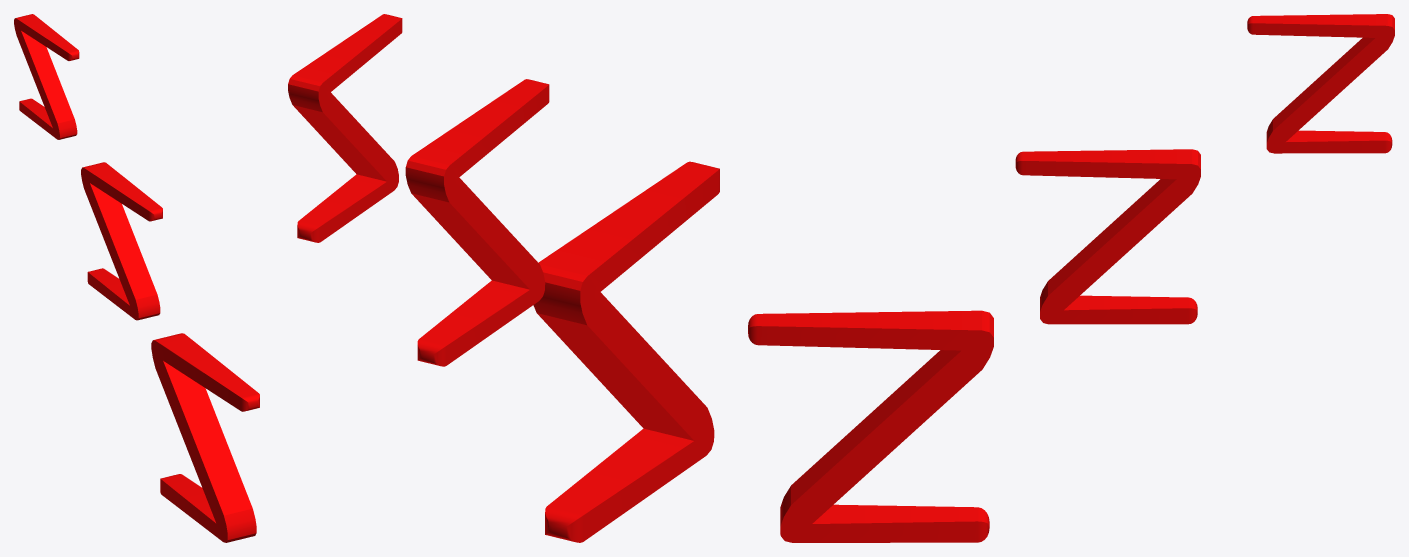
File: Mesh_Char_TirenessIcon.fbx
The picture shows the model from 3 angles, left to right: view 1: azimuth 30°, elevation 25°; view 2: azimuth 150°, elevation 25°; view 3: azimuth 270°, elevation 25°; orthographic projection. The views are drawn at different scales.
Parts seen in each view (by area): view 1: ZZZ; view 2: ZZZ; view 3: ZZZ.
Part boxes in pixels (left/top/right/bottom): ZZZ: left=14, top=14, right=259, bottom=542; ZZZ: left=288, top=14, right=719, bottom=542; ZZZ: left=748, top=14, right=1394, bottom=542.
Size of the model in its own units: 22.14 by 270 by 306.
